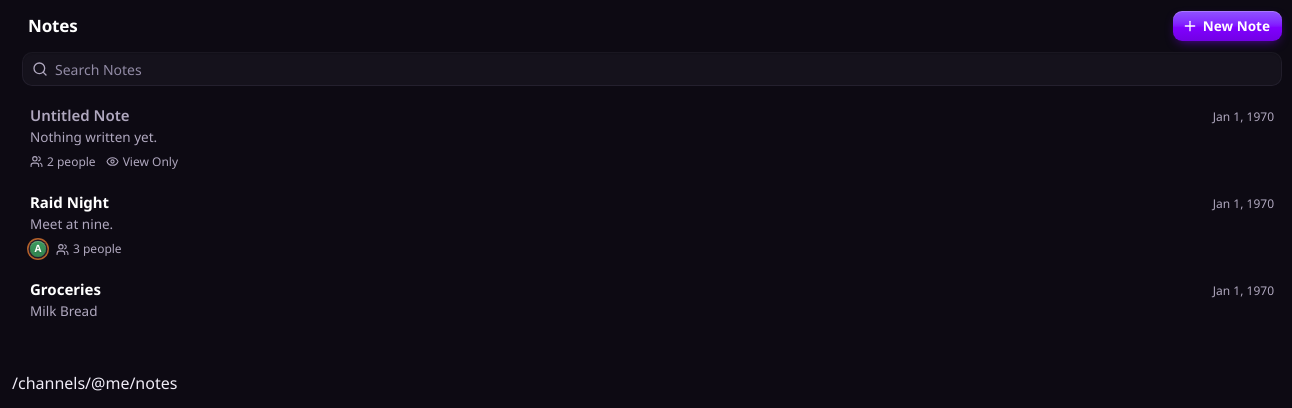
Test case: the list of notes › finds notes by their title and their words
The width and height of the screenshot is (1292, 408).
In the search field labelled "Search Notes": coordinates (666, 69) [55, 52, 1278, 86], type "bread"
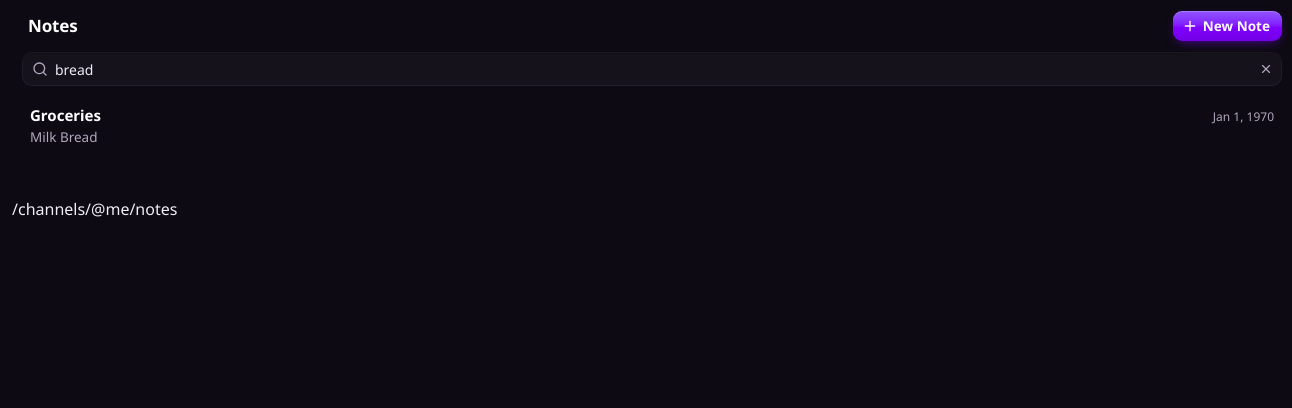
Replace the text in the search field named "Search Notes" with "nothing like it": coordinates (651, 69) [55, 52, 1247, 86]
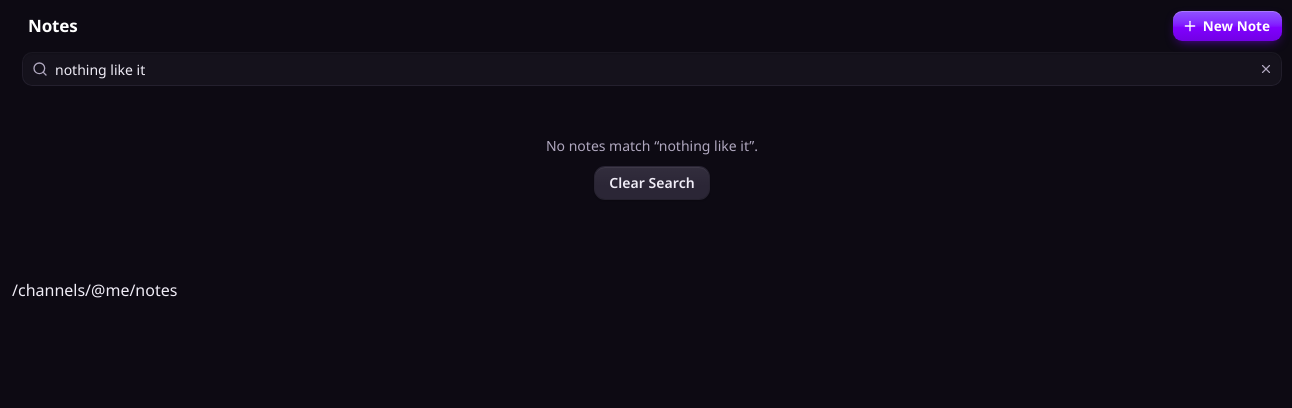
expect no buttons with test id "note-card" are shown: met
expect the text "No notes match “nothing like it”." is shown: met, box [546, 136, 758, 155]
